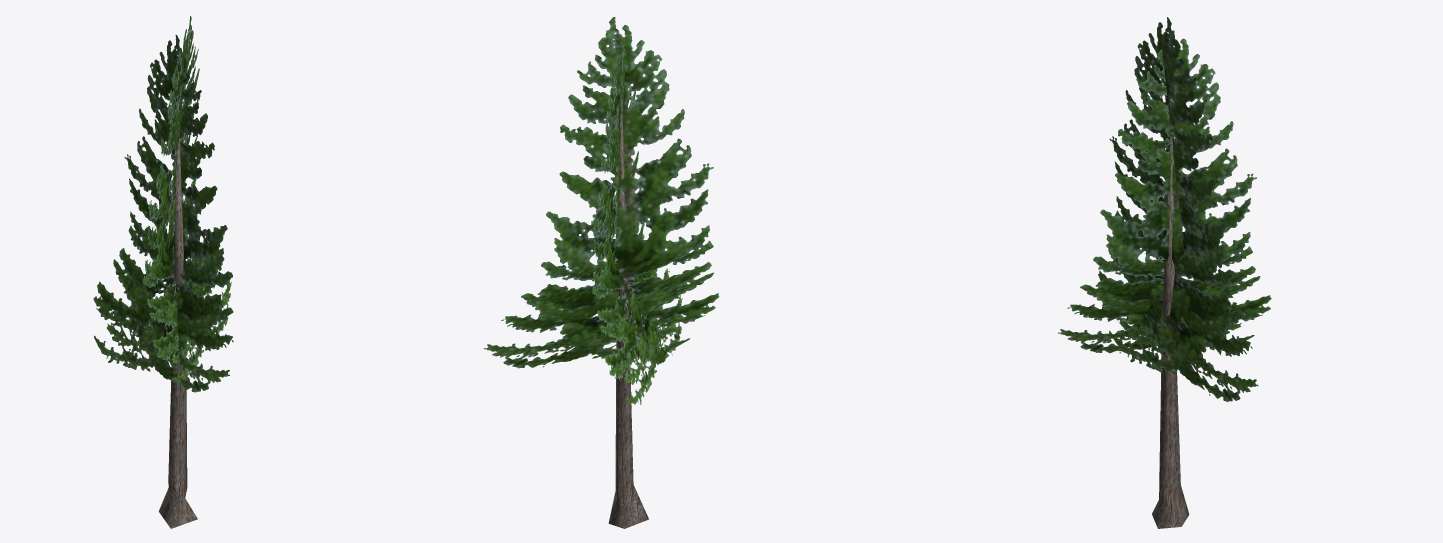
3 views of the same model, side by side, from view 1: azimuth 30°, elevation 25°; view 2: azimuth 150°, elevation 25°; view 3: azimuth 270°, elevation 25° (orthographic).
Parts seen in each view (by area): view 1: PSX_Tree1; view 2: PSX_Tree1; view 3: PSX_Tree1.
Boxes of the visible parts, box(x1,y1,x2,y2) form: PSX_Tree1: box(93, 16, 233, 528); PSX_Tree1: box(483, 17, 719, 528); PSX_Tree1: box(1058, 17, 1271, 528).
Bounding box in the file's own units: 950 × 1302 × 1143.
2 materials, 2 textured.
